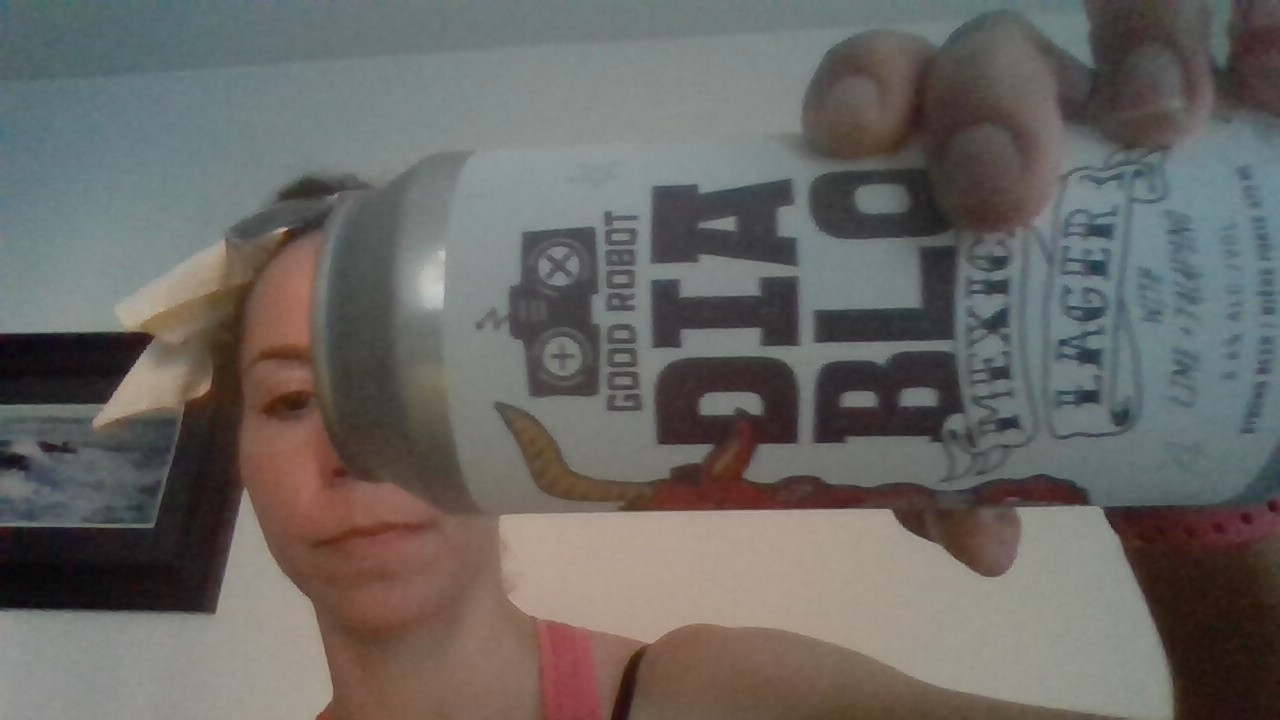Good Robot: (475, 217, 609, 399)
